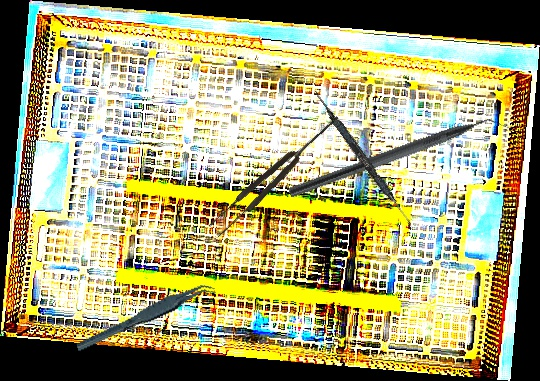Chopper: (288, 105, 513, 213)
Spatula Surgical: (309, 89, 419, 231)
Tissue Forceps: (206, 110, 346, 239), (70, 280, 221, 353)
